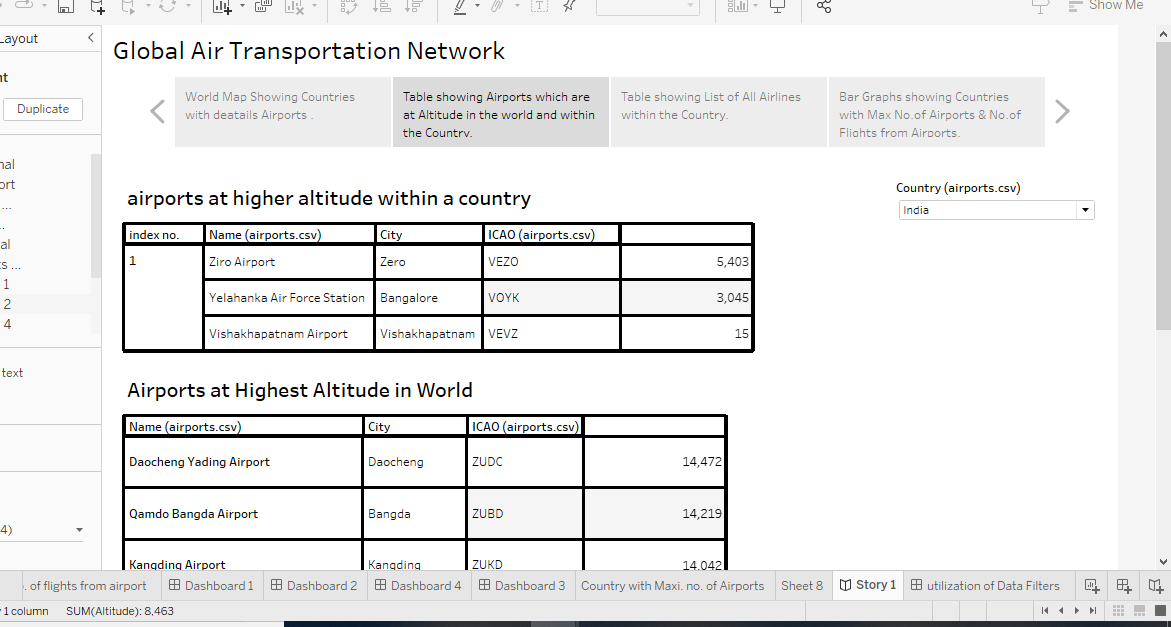

This screenshot's page, from the dashboard's own definition file:
{"tool":"tableau","page":{"name":"Dashboard 2","canvas":[1000,800],"ordinal":1},"visuals":[{"type":"worksheet","title":"Airport at highest altitude","mark":"Automatic","rows":["Calculation_593067785883844608","Name (airports.csv)","City","ICAO (airports.csv)"],"box":[8,8,774,192]},{"type":"filter","title":"Airport at highest altitude","param":"[federated.12byijz1si6xmv18ua5wi1x2ltqk].[none:Country (airports.csv):nk]","box":[782,8,210,109]},{"type":"worksheet","title":"Airports at Highest Altitude in world","mark":"Automatic","rows":["Name (airports.csv)","City","ICAO (airports.csv)"],"box":[8,200,774,592]}]}

Visuals, with their boxes on the page's 1000x800 design canvas (x1, y1, x2, y2). These are canvas units, not pixel positions in the 1171x627 screenshot, which may show the page scaled, cropped or inside an application window:
"Airport at highest altitude" worksheet: 8/8/782/200
"Airport at highest altitude" filter: 782/8/992/117
"Airports at Highest Altitude in world" worksheet: 8/200/782/792
